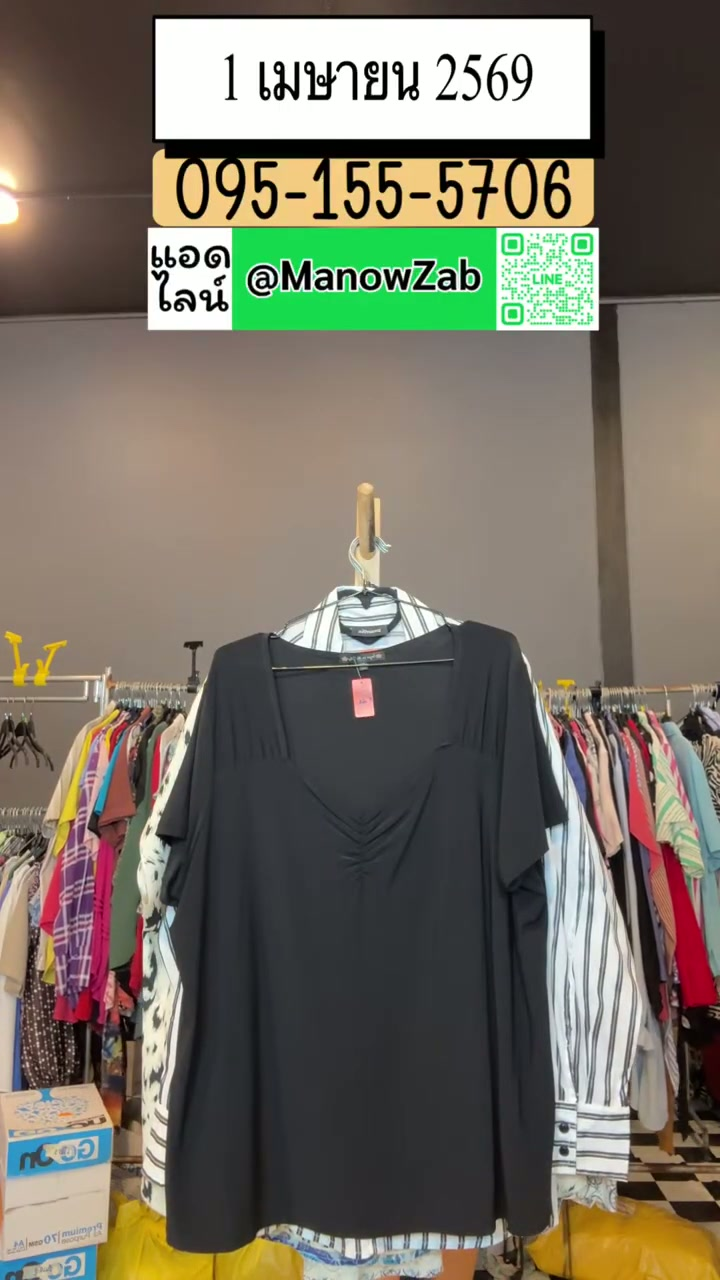display_shirt: (160, 623, 564, 1250)
